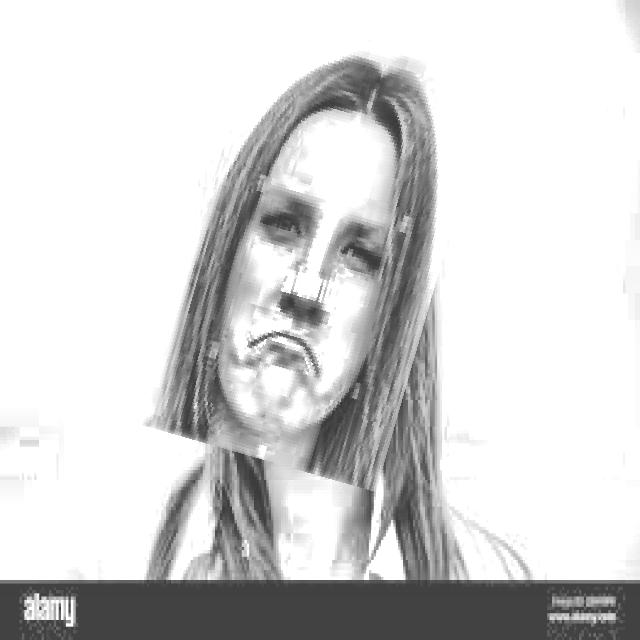sad: (170, 22, 467, 480)
